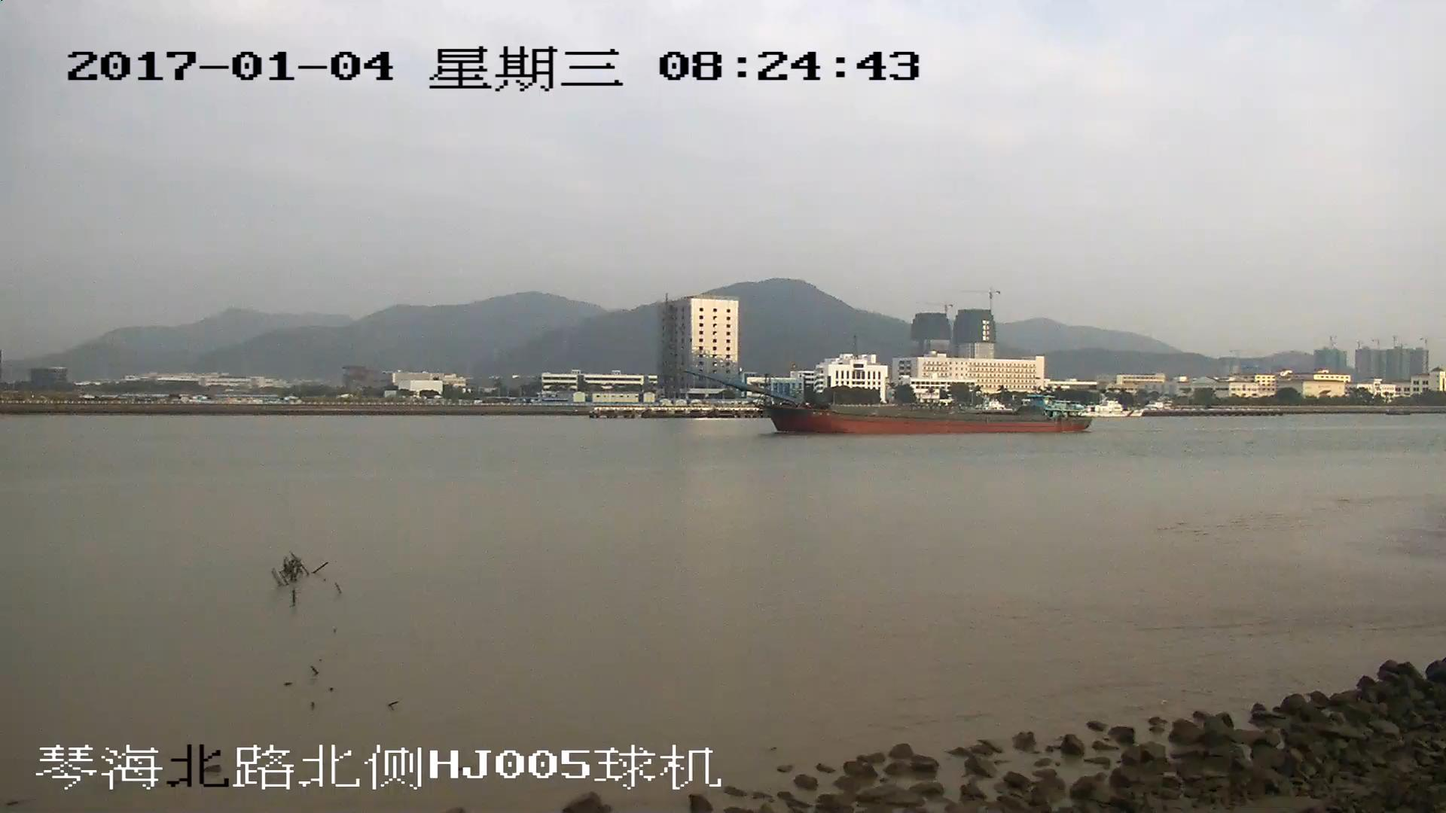bulk cargo carrier: (682, 366, 1089, 430)
